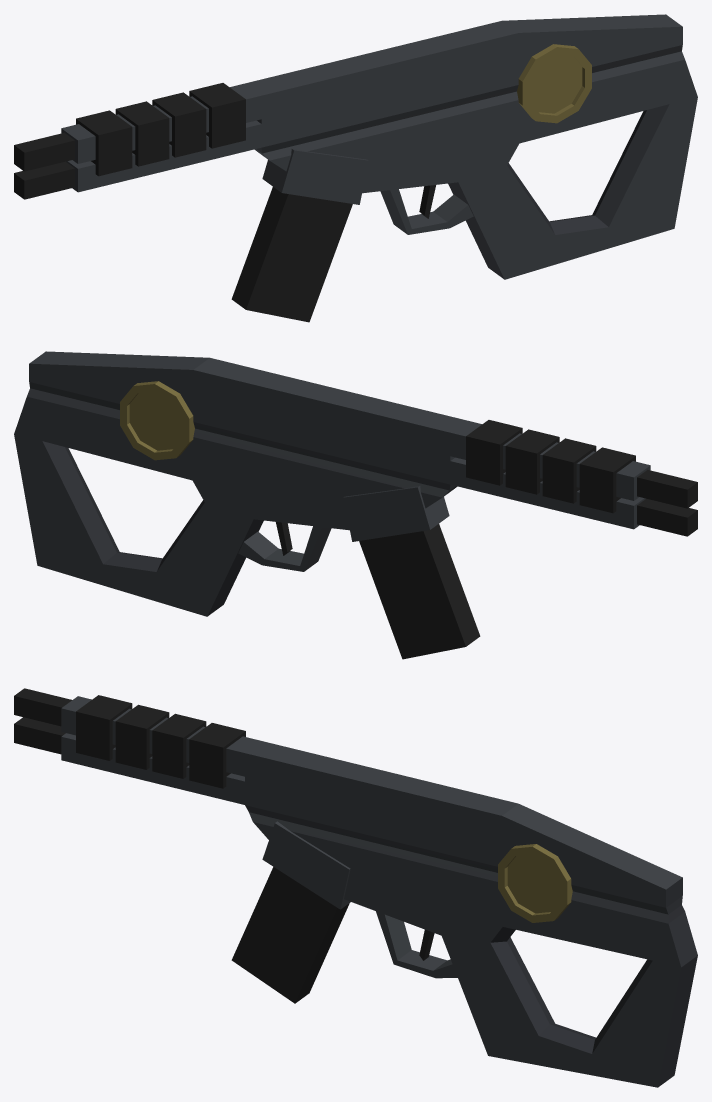
File: gun1.fbx
The picture shows the model from 3 angles, top to bottom: view 1: azimuth 30°, elevation 25°; view 2: azimuth 150°, elevation 25°; view 3: azimuth 330°, elevation 25°; orthographic projection.
Visible parts, largest first — view 1: Cube; view 2: Cube; view 3: Cube.
Part boxes in pixels (bbox=[...]): Cube: bbox=[14, 14, 697, 322]; Cube: bbox=[14, 351, 697, 659]; Cube: bbox=[14, 688, 697, 1087].
Bounding box in the file's own units: 52.12 × 18.33 × 3.32.
